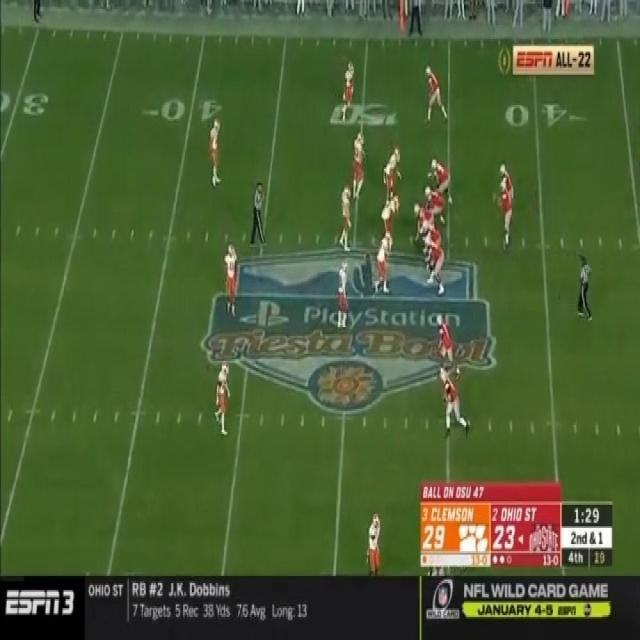center: (414, 200, 428, 243)
db: (213, 364, 230, 432), (221, 244, 237, 312), (207, 120, 220, 182), (366, 519, 383, 562), (343, 62, 354, 124)
lb: (337, 265, 350, 327), (338, 188, 351, 249), (351, 133, 365, 187)
qb: (501, 186, 514, 236)
